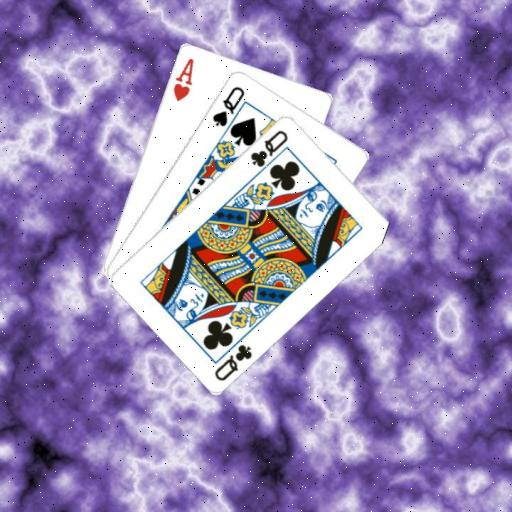AH: (169, 54, 195, 102)
QC: (248, 127, 290, 169), (212, 340, 254, 382)
QS: (209, 82, 246, 128)
